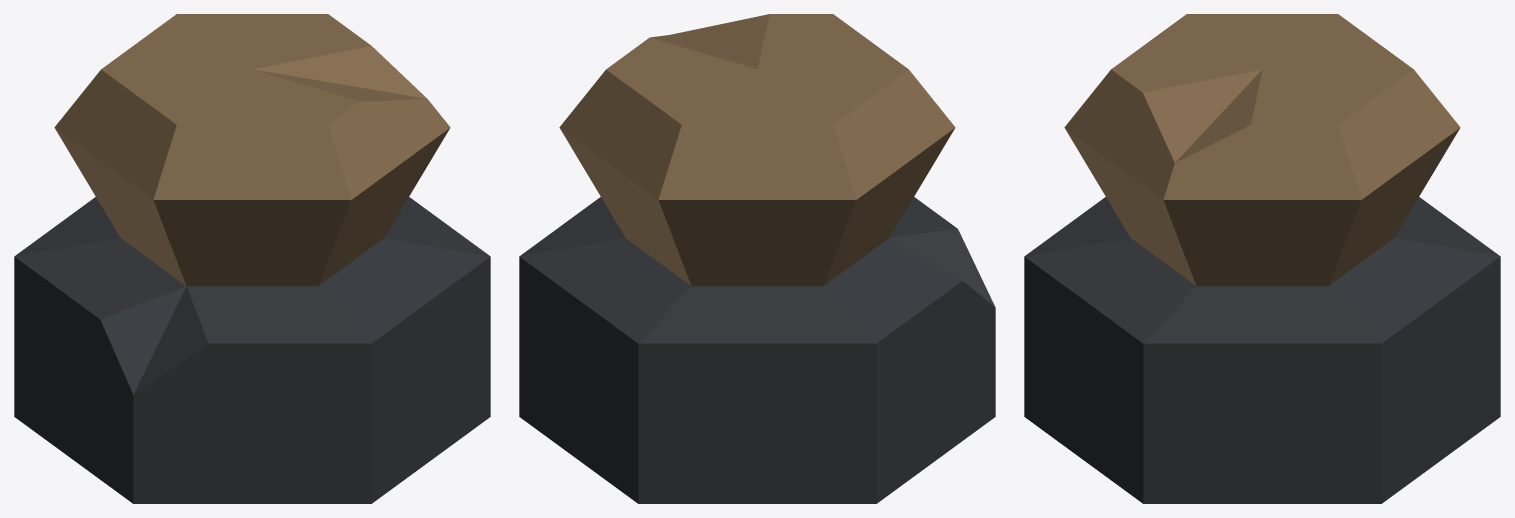
Rendered from SM_Prop_Barrel_Bung_01.fbx.
3 renders of one model, left to right at view 1: azimuth 30°, elevation 25°; view 2: azimuth 150°, elevation 25°; view 3: azimuth 270°, elevation 25°, orthographic.
Parts seen in each view (by area): view 1: SM_Prop_Barrel_Bung_01; view 2: SM_Prop_Barrel_Bung_01; view 3: SM_Prop_Barrel_Bung_01.
Boxes of the visible parts, x1,y1,x2,y2 form: SM_Prop_Barrel_Bung_01: (14,14,490,503); SM_Prop_Barrel_Bung_01: (519,14,995,503); SM_Prop_Barrel_Bung_01: (1024,14,1500,503).
Size of the model in its own units: 27.63 by 25.67 by 31.91.
